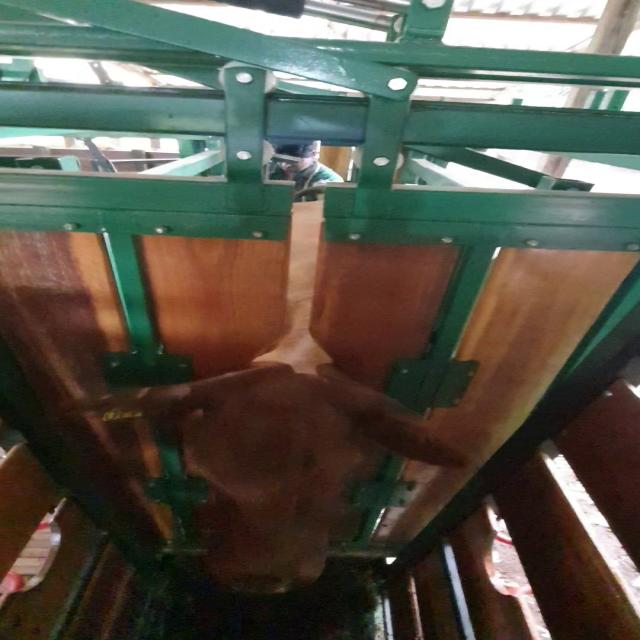cowFace: (188, 375, 363, 594)
